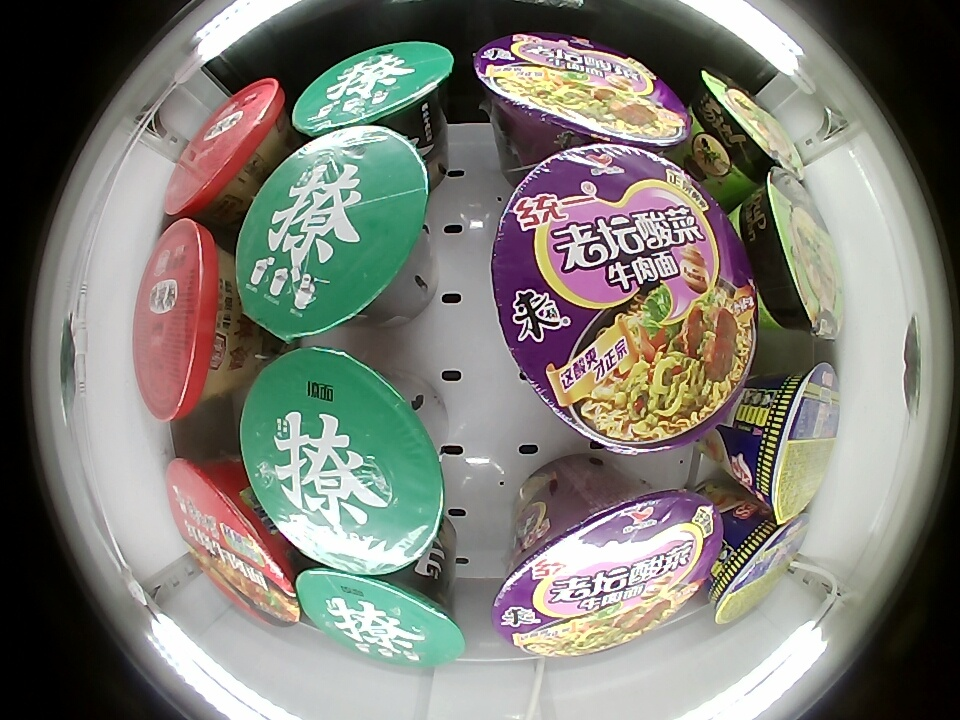heweidao: (749, 363, 842, 522), (711, 511, 808, 624)
hongshaoniurou: (166, 453, 304, 627)
laotansuancai: (492, 143, 758, 456), (492, 485, 724, 658), (473, 32, 692, 160)
liaomian: (239, 347, 444, 577), (235, 127, 428, 342), (295, 564, 466, 666), (292, 42, 454, 141)
suanlafen: (132, 218, 242, 422), (164, 78, 287, 223)
tangdaren: (738, 166, 846, 340), (691, 72, 804, 186)
